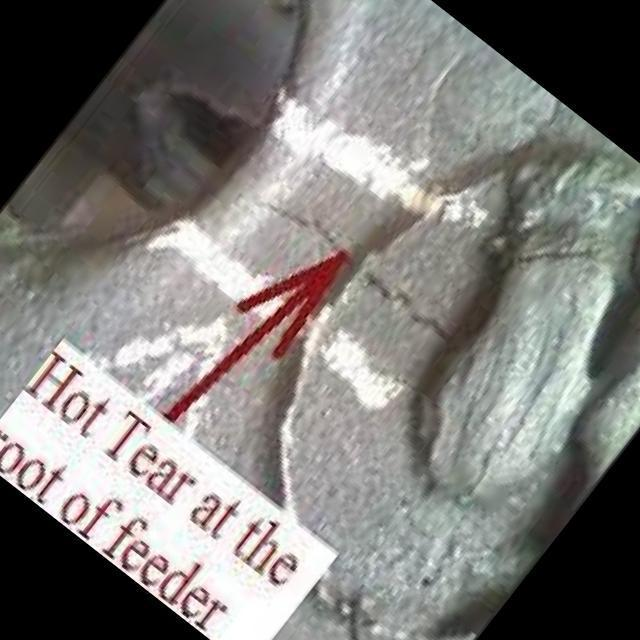defect: (258, 200, 468, 356)
